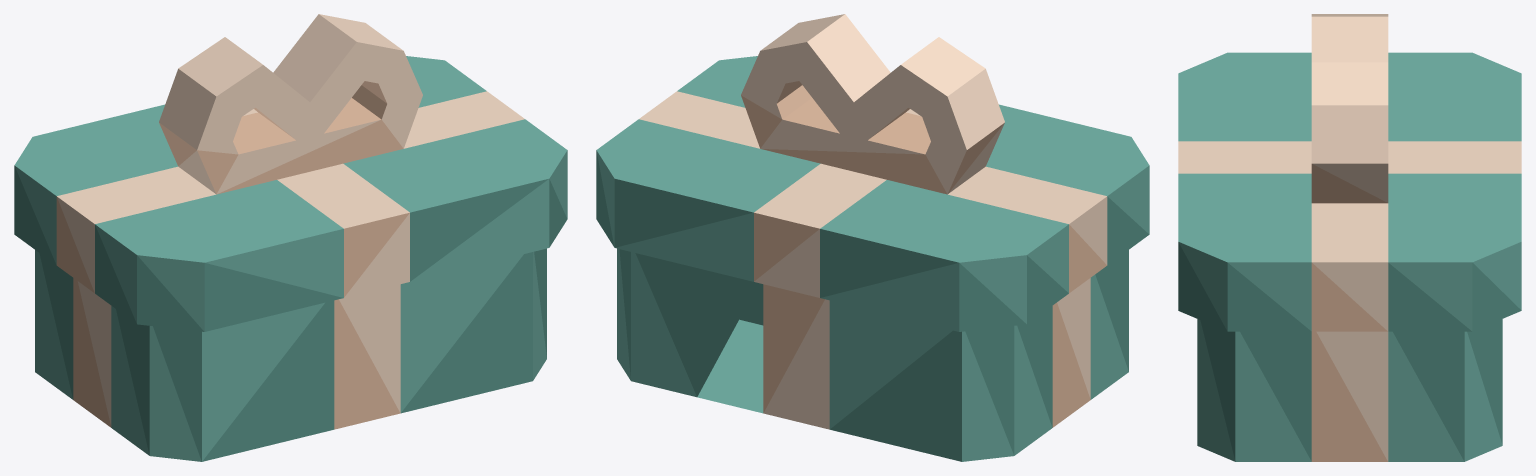
File: acc_gift.glb
3 views of the same model, side by side, from view 1: azimuth 30°, elevation 25°; view 2: azimuth 150°, elevation 25°; view 3: azimuth 270°, elevation 25° (orthographic).
Visible parts, largest first — view 1: gift; view 2: gift; view 3: gift.
Part boxes in pixels (box(x1,y1,x2,y2)): gift: box(14, 14, 567, 461); gift: box(596, 14, 1149, 461); gift: box(1178, 14, 1521, 461).
Size of the model in its own units: 0.7595 by 0.55 by 0.5258.
